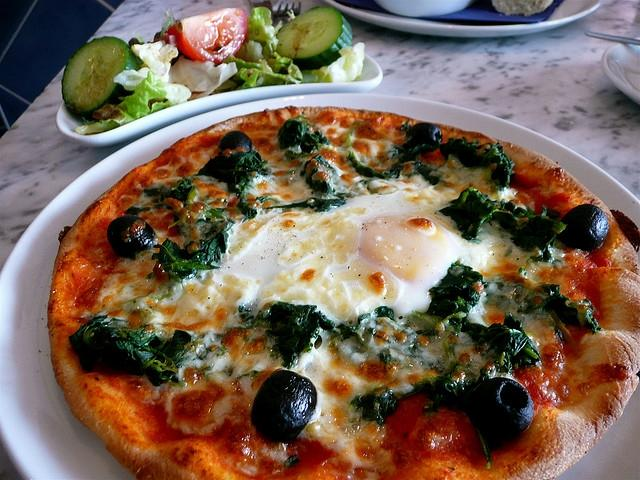cucumber: (61, 36, 143, 122), (276, 7, 353, 72)
lettuce: (310, 42, 366, 82), (234, 60, 304, 91), (130, 40, 166, 71)
tomato: (168, 7, 249, 65)
